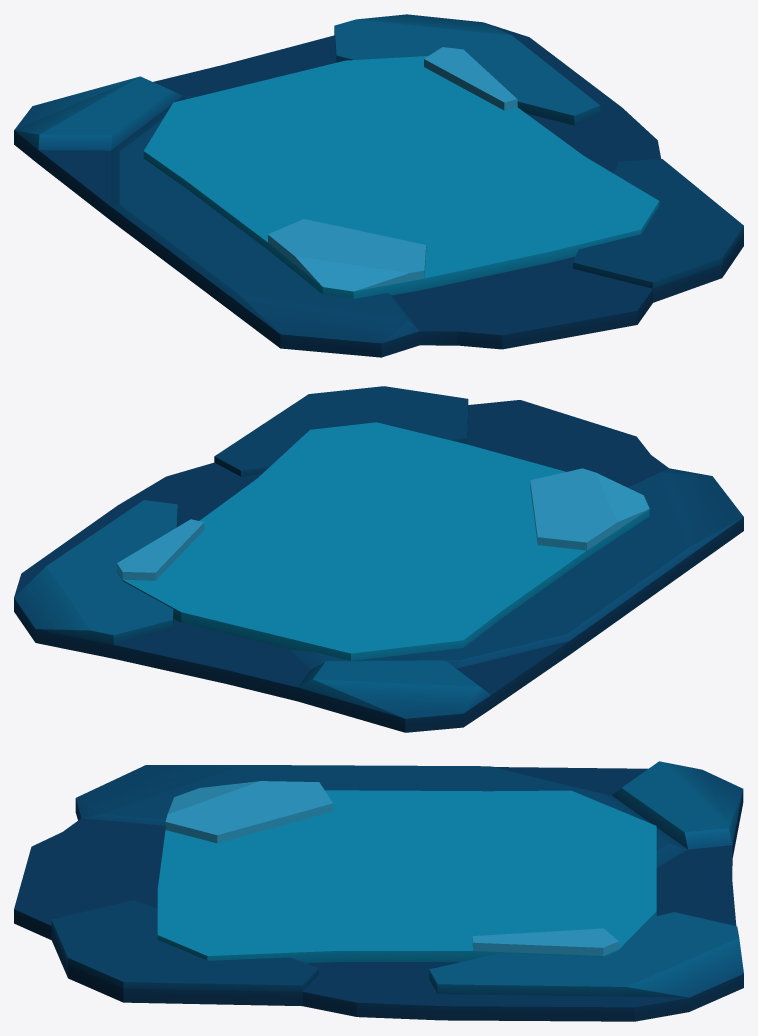
The model's file is Tomb_Platform_02.fbx.
3 views of the same model, one above another, from view 1: azimuth 30°, elevation 25°; view 2: azimuth 150°, elevation 25°; view 3: azimuth 270°, elevation 25° (orthographic). The views are drawn at different scales.
Parts seen in each view (by area): view 1: Tomb_Platform_02.001; view 2: Tomb_Platform_02.001; view 3: Tomb_Platform_02.001.
Boxes of the visible parts, x1,y1,x2,y2 form: Tomb_Platform_02.001: (14, 14, 743, 357); Tomb_Platform_02.001: (14, 386, 743, 732); Tomb_Platform_02.001: (14, 761, 743, 1021).
Size of the model in its own units: 477 by 30.85 by 607.
